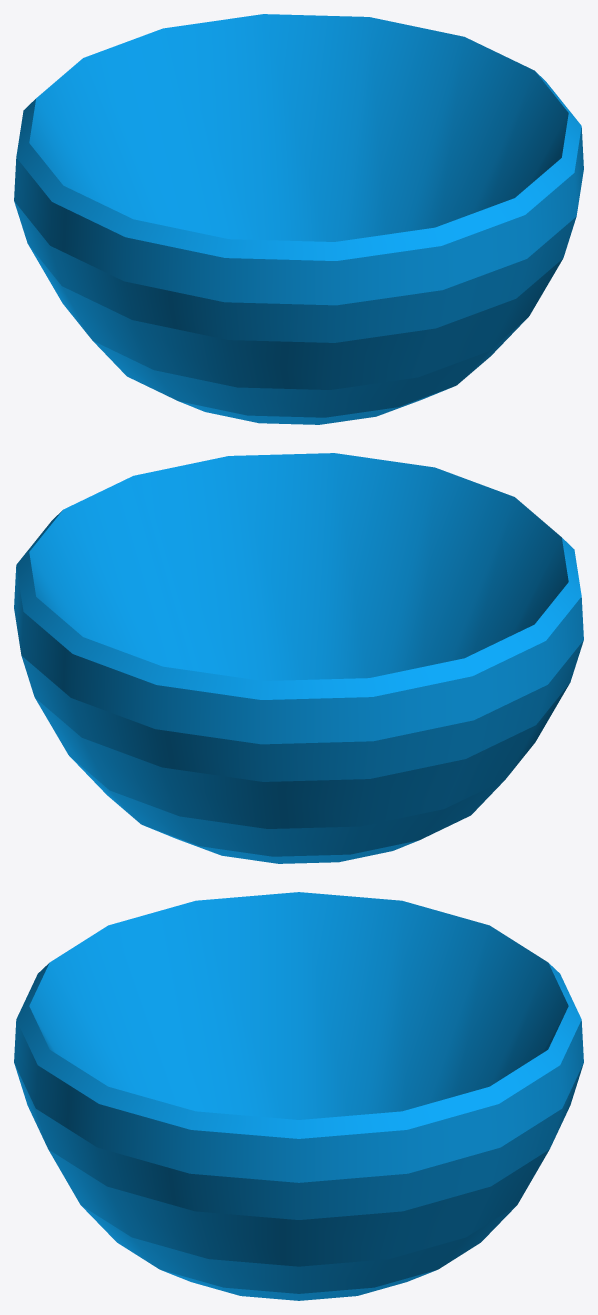
Rendered from Basket.FBX.
The picture shows the model from 3 angles, top to bottom: view 1: azimuth 30°, elevation 25°; view 2: azimuth 150°, elevation 25°; view 3: azimuth 270°, elevation 25°; orthographic projection.
Parts seen in each view (by area): view 1: Line001; view 2: Line001; view 3: Line001.
Boxes of the visible parts, left/top/right/bottom form: Line001: left=14, top=14, right=583, bottom=424; Line001: left=14, top=453, right=583, bottom=863; Line001: left=14, top=892, right=583, bottom=1300.
Bounding box in the file's own units: 0.1458 × 0.0673 × 0.1458.
